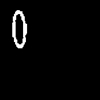chain: (12, 10, 26, 47)
